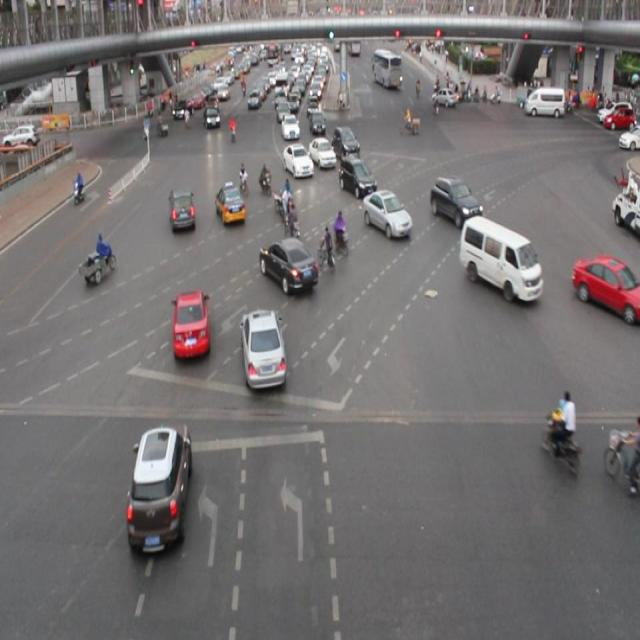car: (127, 422, 193, 550), (571, 251, 640, 324), (239, 306, 288, 392), (259, 235, 318, 296), (171, 286, 211, 362), (429, 172, 481, 229), (361, 187, 410, 238), (337, 154, 376, 199), (215, 178, 247, 230), (168, 185, 197, 233), (282, 142, 314, 180), (332, 123, 359, 164), (309, 136, 336, 171)
truck: (458, 214, 542, 302)
